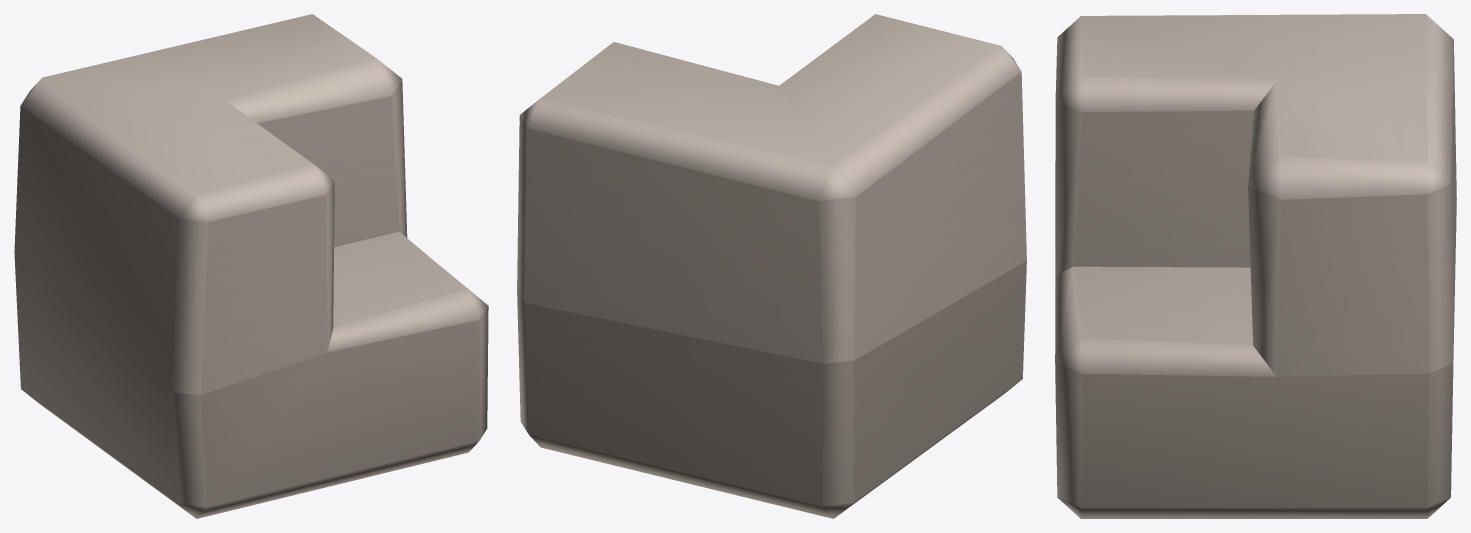
File: elf_stair_corner_conc_shade1.fbx
3 renders of one model, left to right at view 1: azimuth 30°, elevation 25°; view 2: azimuth 150°, elevation 25°; view 3: azimuth 270°, elevation 25°, orthographic. The views are drawn at different scales.
Parts seen in each view (by area): view 1: elf_stair_corner_conc_shade1; view 2: elf_stair_corner_conc_shade1; view 3: elf_stair_corner_conc_shade1.
Part boxes in pixels (x1,y1,x2,y2): elf_stair_corner_conc_shade1: (14,14,488,518); elf_stair_corner_conc_shade1: (517,14,1026,518); elf_stair_corner_conc_shade1: (1055,14,1456,518).
Size of the model in its own units: 52.26 by 50.74 by 51.02.
